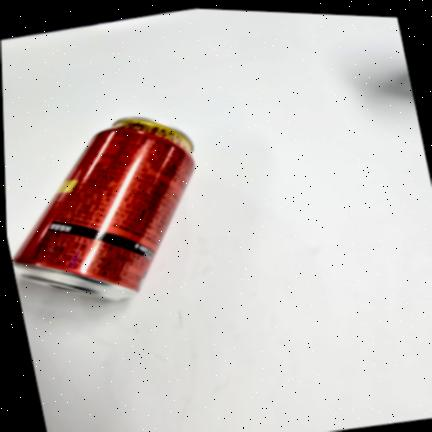can_coke_decaf: (12, 117, 195, 300)
